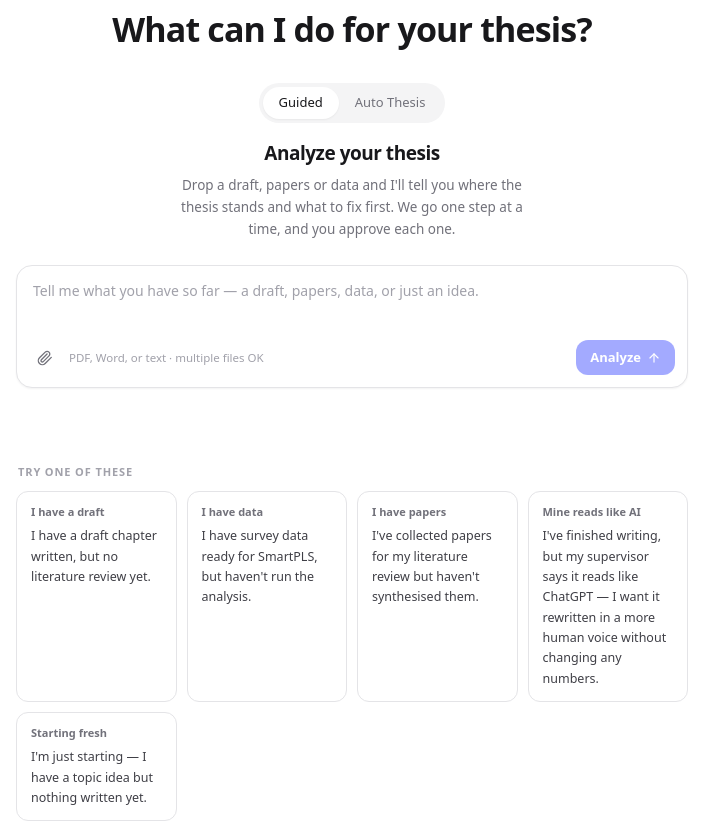
HomeLauncher › Auto Thesis hides the sample-prompt cards (its next step is a run, not a chat)
Expected: the text "Starting fresh" is shown, [31,725,107,741]
Click the tab "Auto Thesis": (390, 103) [339,87,442,118]
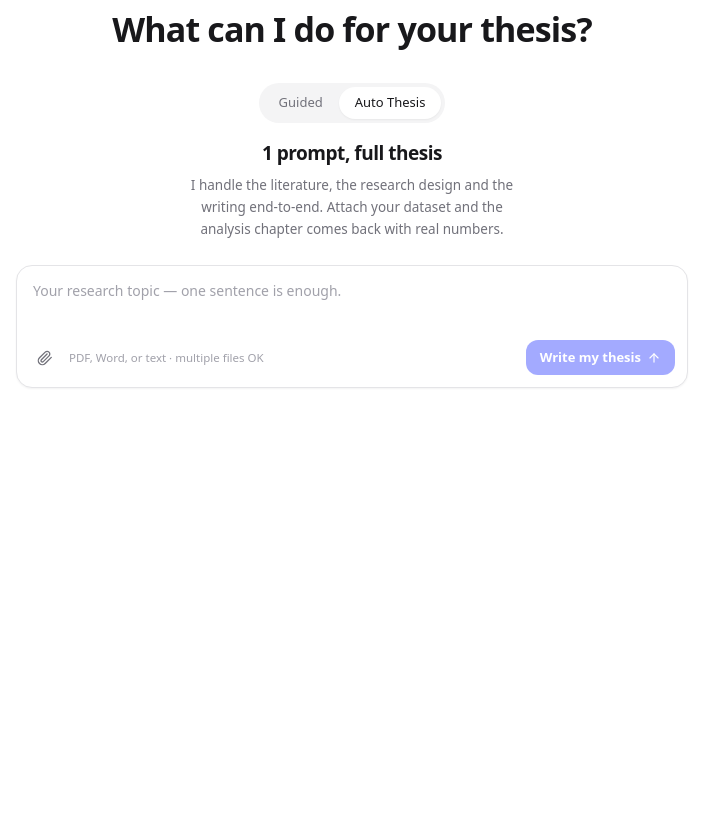
Now the button "Starting fresh" is gone
